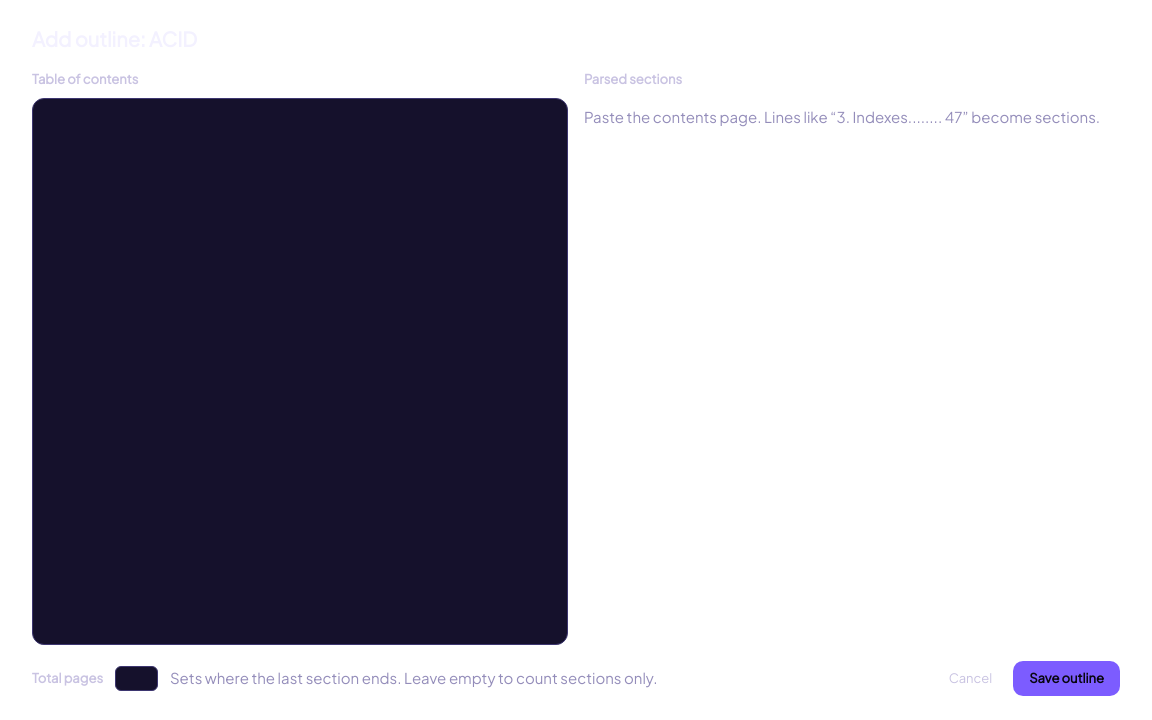
it: the outline import screen › refuses to save a page that is not a whole number
Click the text box labelled "Table of contents": (300, 371) [32,98,568,644]
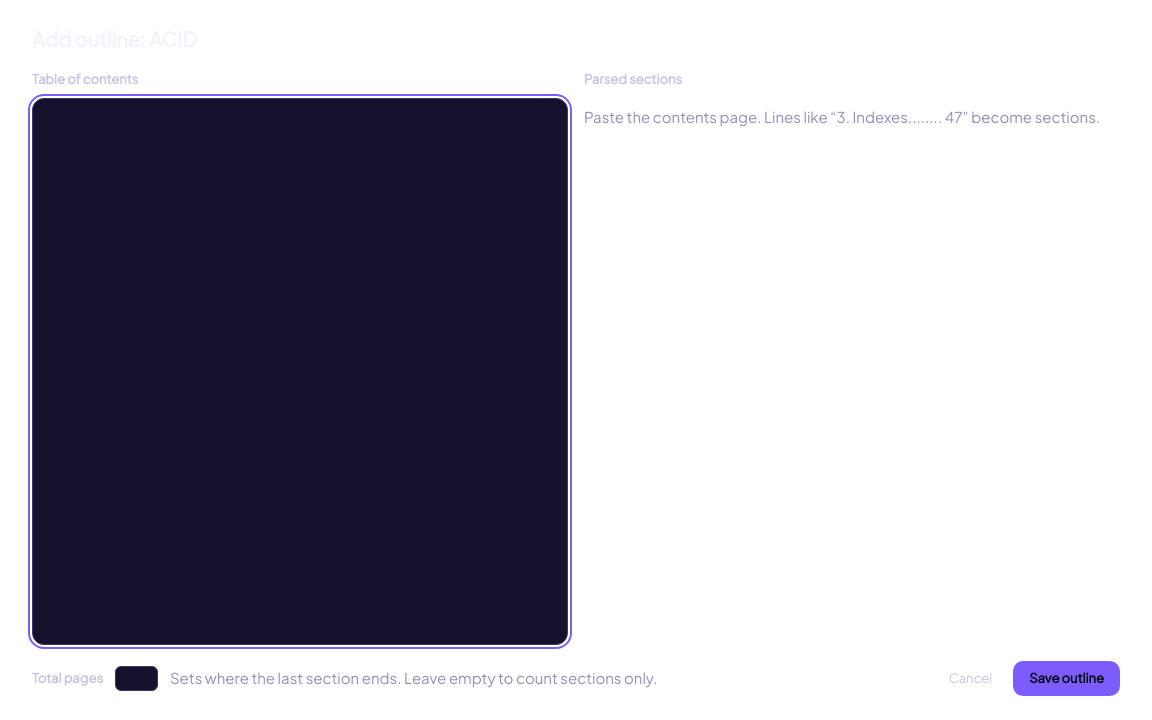
Type keys "1. Preface.... 1"
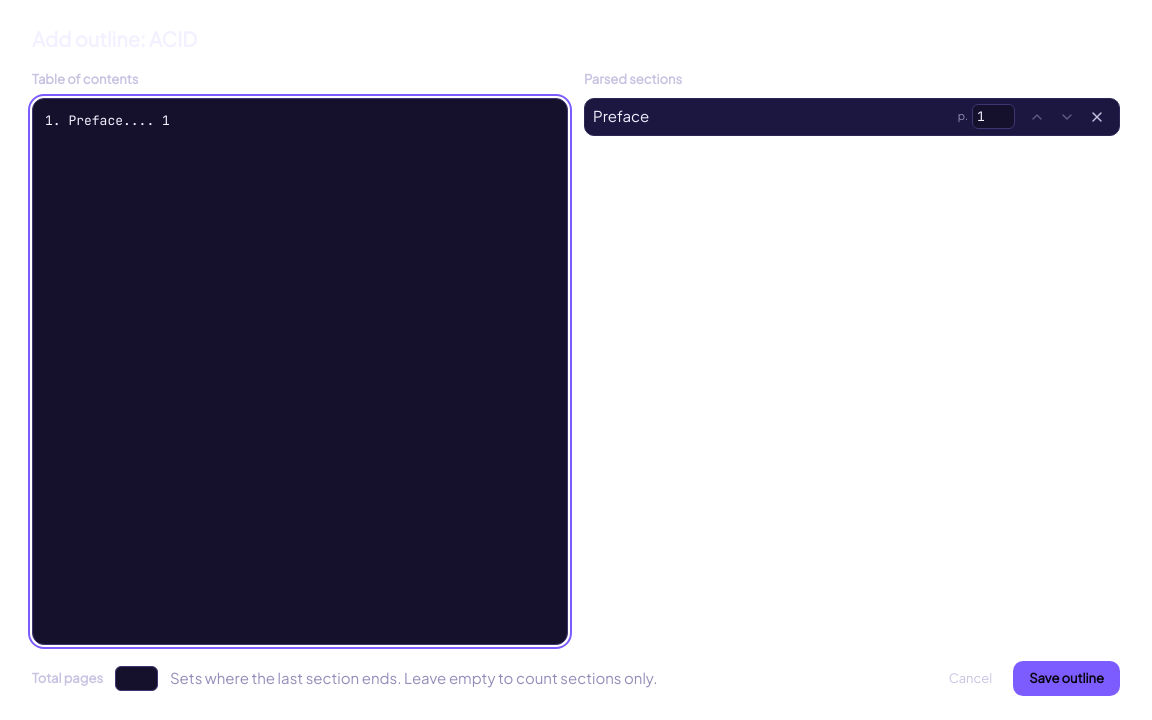
Clear the number field named "Start page of Preface": (994, 117) [972,104,1015,129]
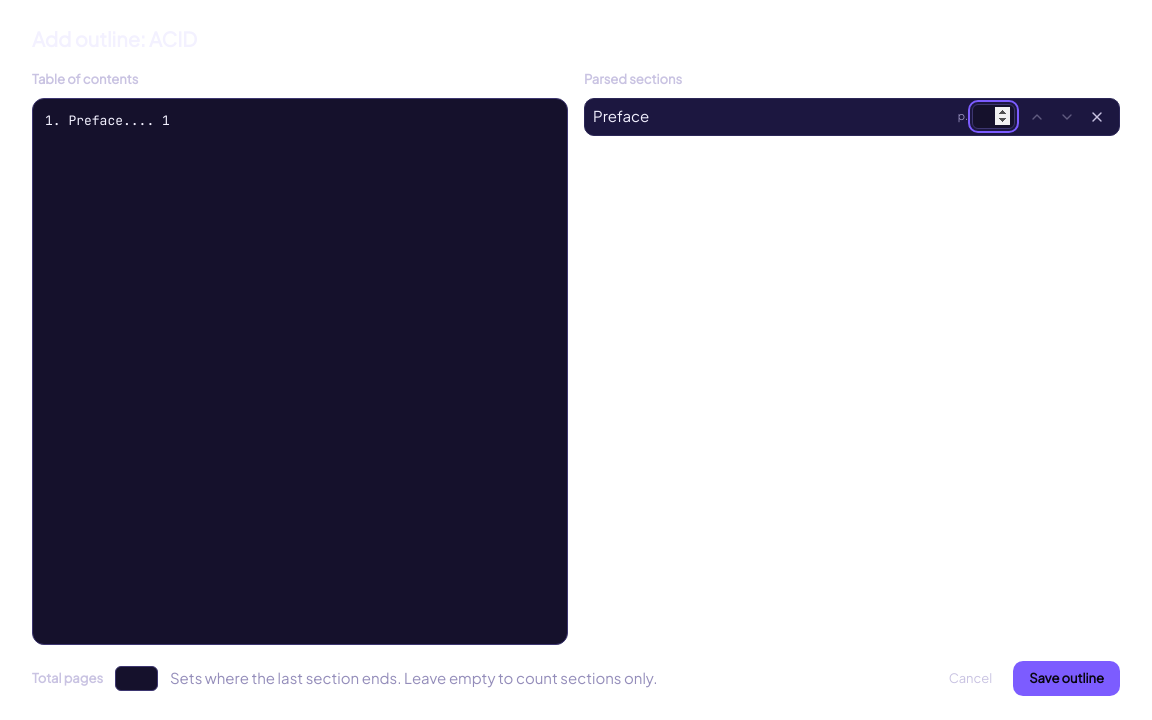
Click the button "Save outline": (1067, 678) [1013,660,1120,696]
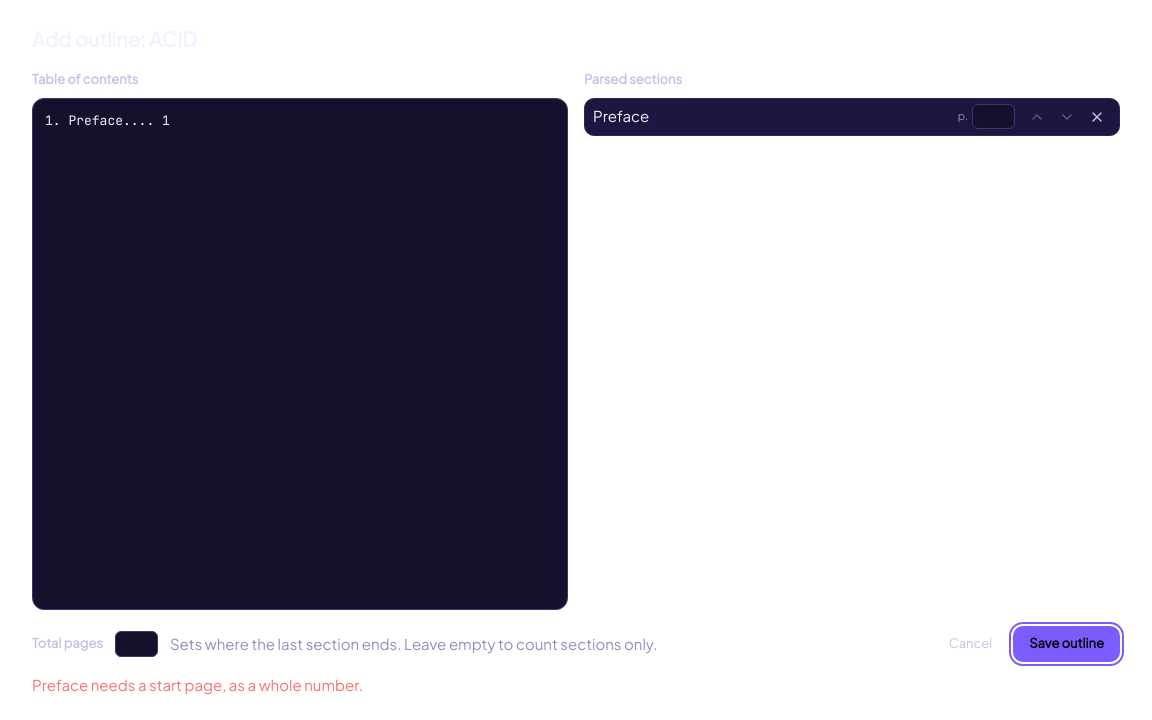
Expected: the message shows "Preface", [32,674,363,694]
